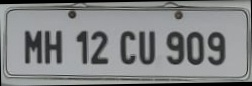character: (23, 29, 43, 64), (206, 30, 225, 66), (90, 29, 108, 65), (44, 29, 62, 64), (137, 30, 155, 65), (186, 32, 204, 66), (166, 30, 184, 63), (119, 30, 135, 65), (75, 29, 89, 65)
